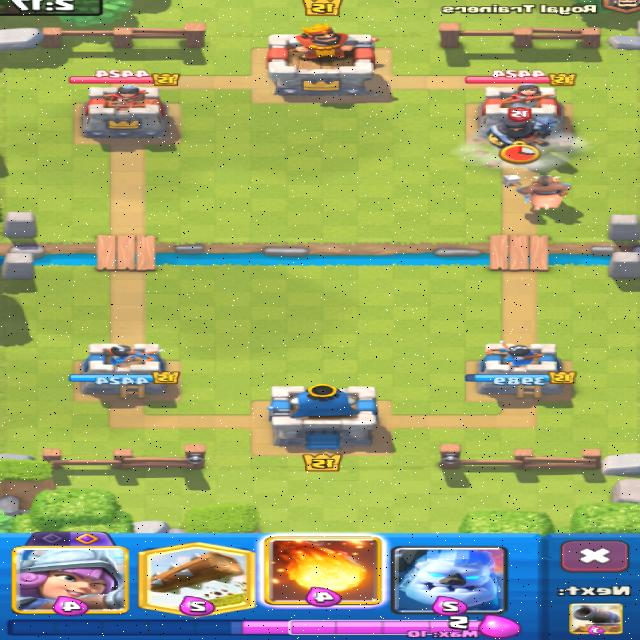Enemy-DarkPrince-Shield: (487, 109, 554, 148)
Enemy-KingTower: (268, 25, 380, 96)
Enemy-PrincessTower: (82, 85, 175, 145), (481, 84, 561, 129)
Player-HogRider: (503, 173, 572, 212)
Player-KingTower: (269, 384, 376, 450)
Player-PrincessTower: (466, 344, 576, 398), (80, 343, 179, 397)
